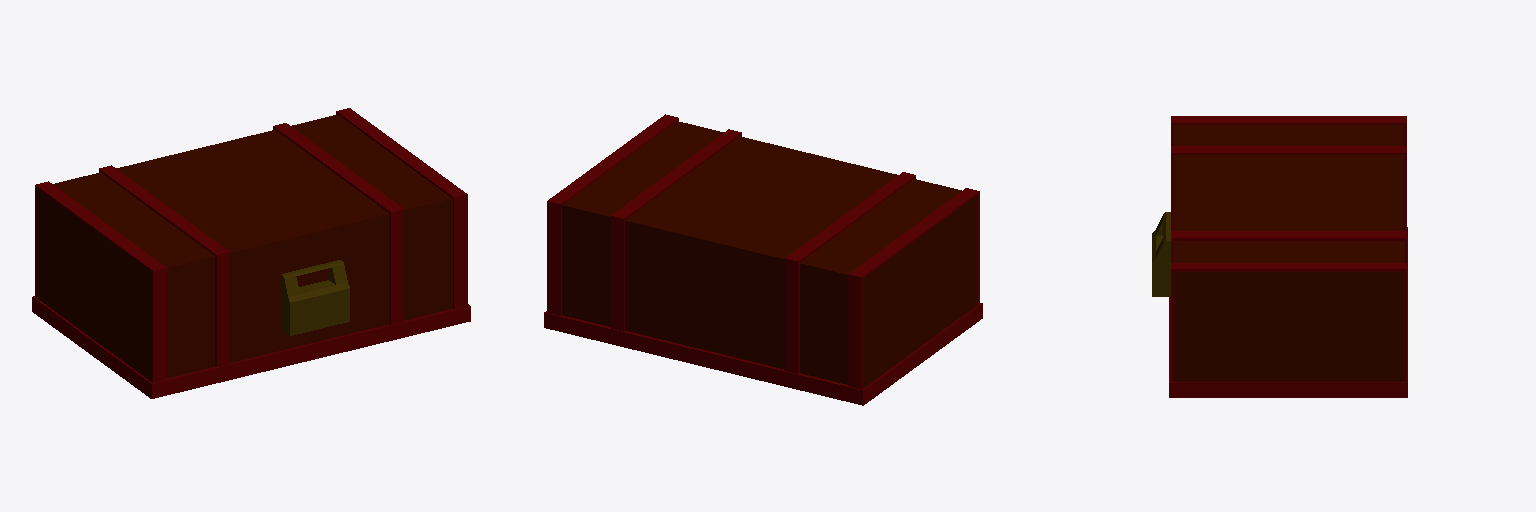
File: TreasureBox_closed.obj
The picture shows the model from 3 angles: view 1: azimuth 30°, elevation 25°; view 2: azimuth 150°, elevation 25°; view 3: azimuth 270°, elevation 25°; orthographic projection.
Visible parts, largest first — view 1: TreasureBox_closed_Cube.004; view 2: TreasureBox_closed_Cube.004; view 3: TreasureBox_closed_Cube.004.
Part boxes in pixels (x1,y1,x2,y2): TreasureBox_closed_Cube.004: (32,108,470,398); TreasureBox_closed_Cube.004: (544,114,982,405); TreasureBox_closed_Cube.004: (1152,116,1407,397).
Bounding box in the file's own units: 62.35 × 23.84 × 43.44.